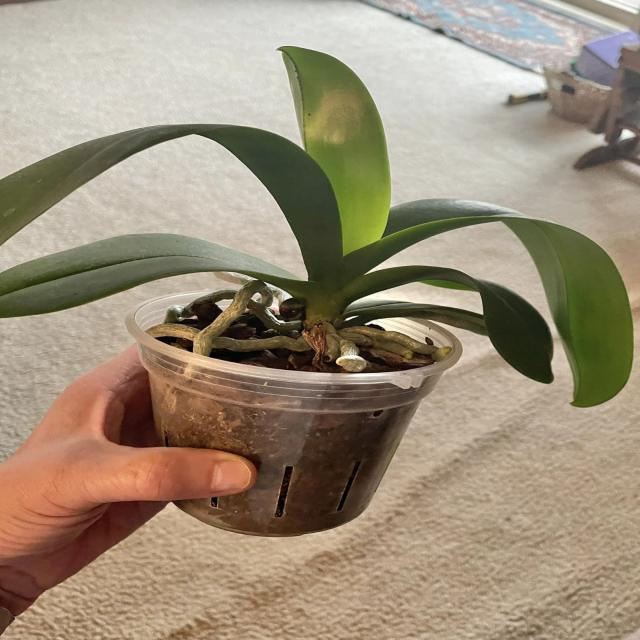leaf: (352, 201, 634, 403), (1, 125, 338, 245), (0, 235, 306, 315), (202, 124, 345, 281), (282, 48, 389, 252), (479, 281, 554, 382)
plant: (1, 16, 637, 590)
pot: (105, 264, 476, 549)
